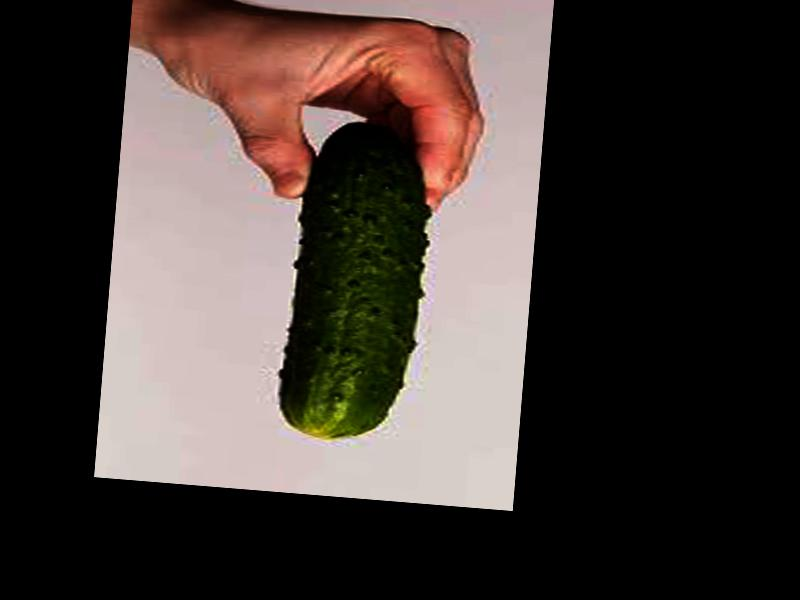Cucumber: (286, 118, 435, 443)
